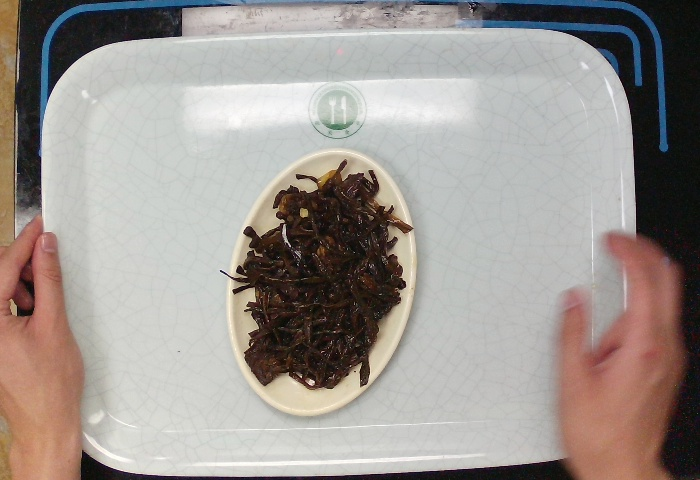JYsf-Tuo_Yuan_Wan: (221, 144, 424, 425)
